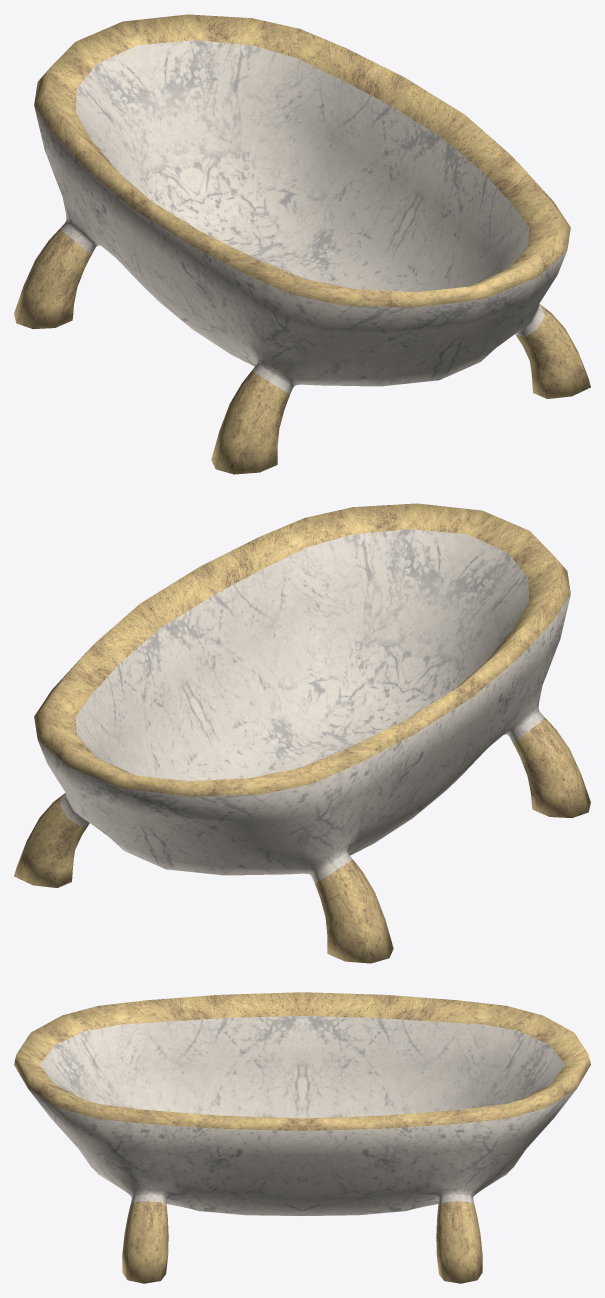
Rendered from vanna.fbx.
3 views of the same model, one above another, from view 1: azimuth 30°, elevation 25°; view 2: azimuth 150°, elevation 25°; view 3: azimuth 270°, elevation 25° (orthographic). The views are drawn at different scales.
Parts seen in each view (by area): view 1: vanna; view 2: vanna; view 3: vanna.
Boxes of the visible parts, bbox=[...] form: vanna: bbox=[14, 14, 590, 474]; vanna: bbox=[14, 503, 590, 963]; vanna: bbox=[14, 992, 590, 1283].
Size of the model in its own units: 2390 by 1219 by 4028.
